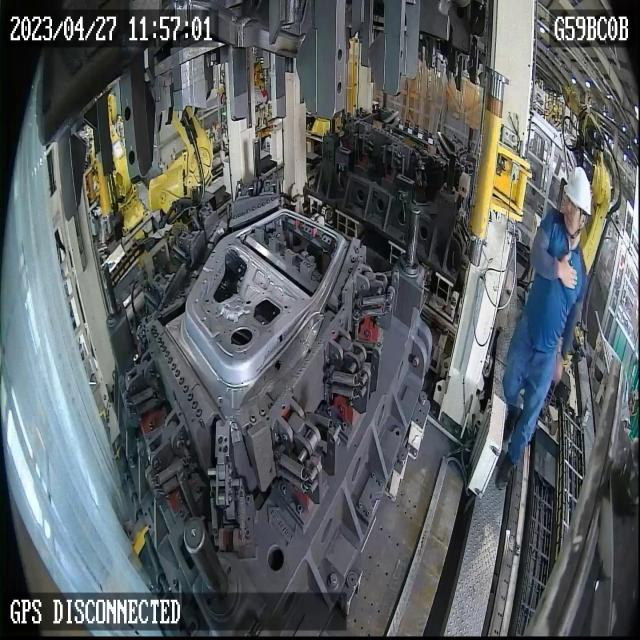Person: (494, 166, 592, 491)
